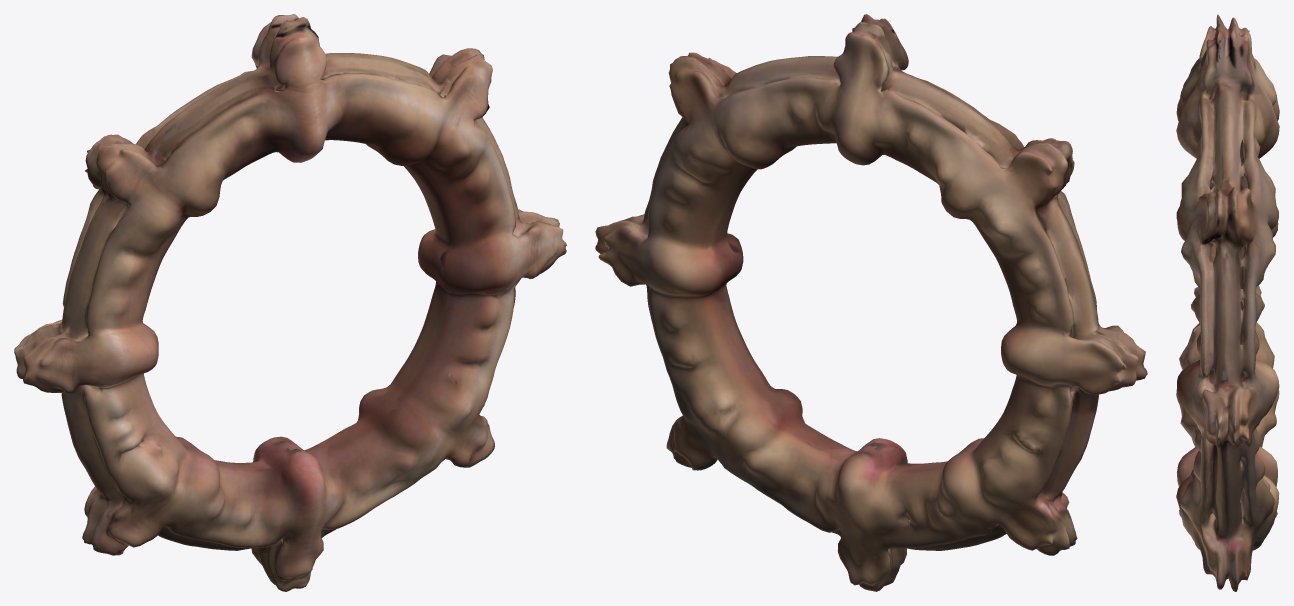
Rendered from nosering-ayesha2.glb.
3 views of the same model, side by side, from view 1: azimuth 30°, elevation 25°; view 2: azimuth 150°, elevation 25°; view 3: azimuth 270°, elevation 25° (orthographic). The views are drawn at different scales.
Visible parts, largest first — view 1: Mesh_0; view 2: Mesh_0; view 3: Mesh_0.
Boxes of the visible parts, x1,y1,x2,y2 form: Mesh_0: (14,14,566,591); Mesh_0: (595,14,1147,591); Mesh_0: (1176,14,1279,591).
Size of the model in its own units: 1.98 by 1.98 by 0.3356.
Materials: 1 (1 with a texture image).
